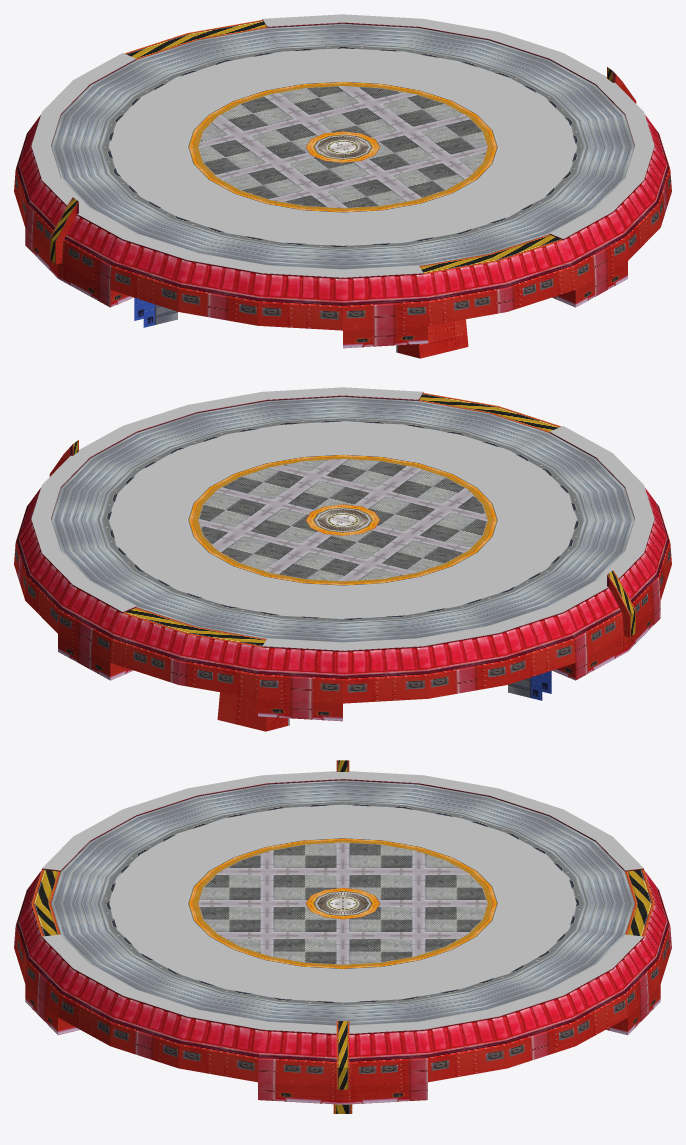
The model's file is Emperor6.obj.
3 views of the same model, one above another, from view 1: azimuth 30°, elevation 25°; view 2: azimuth 150°, elevation 25°; view 3: azimuth 270°, elevation 25° (orthographic).
Parts seen in each view (by area): view 1: obj2, obj1, Object_2; view 2: obj2, obj1, Object_2; view 3: obj2, obj1, Object_2.
Part boxes in pixels (<box>): obj2: <box>51,14,654,274</box>; obj1: <box>14,19,671,358</box>; Object_2: <box>109,48,576,245</box>; obj2: <box>31,387,634,647</box>; obj1: <box>14,392,671,731</box>; Object_2: <box>109,421,576,618</box>; obj2: <box>31,780,654,1033</box>; obj1: <box>14,760,671,1113</box>; Object_2: <box>109,805,576,1002</box>.
Bounding box in the file's own units: 2150 × 551 × 2112.
